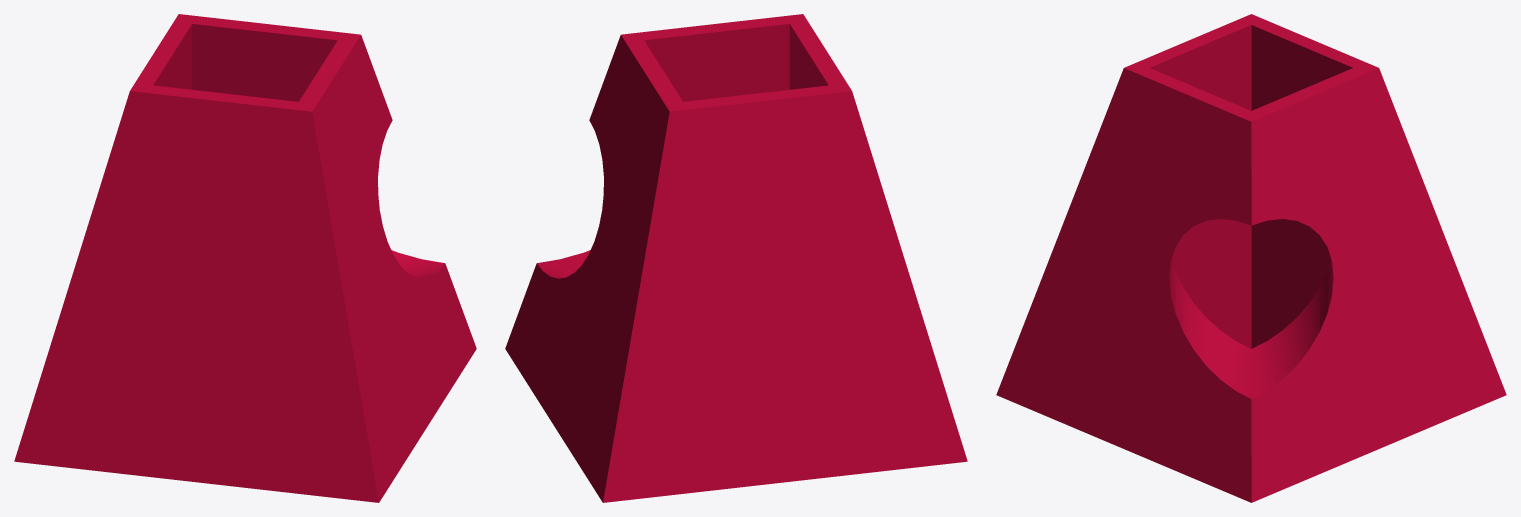
The model's file is var_10.glb.
3 renders of one model, left to right at view 1: azimuth 30°, elevation 25°; view 2: azimuth 150°, elevation 25°; view 3: azimuth 270°, elevation 25°, orthographic. The views are drawn at different scales.
Parts seen in each view (by area): view 1: Cube.005; view 2: Cube.005; view 3: Cube.005.
Part boxes in pixels (x1,y1,x2,y2): Cube.005: (14, 14, 476, 502); Cube.005: (505, 14, 967, 502); Cube.005: (996, 14, 1506, 502).
Bounding box in the file's own units: 2.83 × 2 × 2.83.
